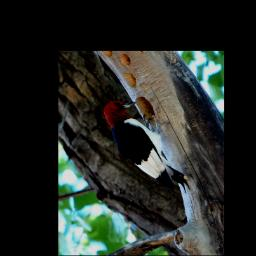Woodpecker: (105, 99, 193, 193)
